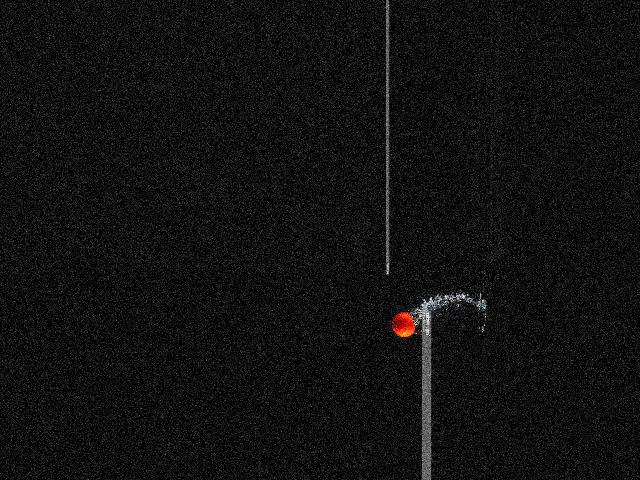tomato: (392, 312, 415, 337)
